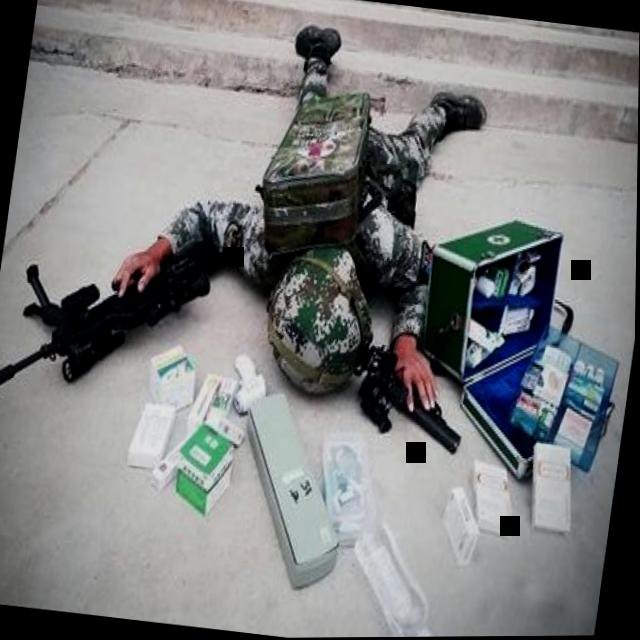Fall-Detected: (83, 0, 542, 458)
